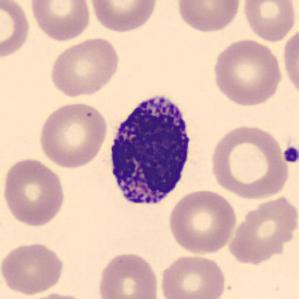Basophil: (103, 86, 198, 214)
Platelets: (281, 144, 299, 166)
RBC: (207, 123, 291, 200), (209, 37, 285, 107), (35, 100, 109, 170), (227, 195, 299, 265), (166, 188, 239, 255), (1, 155, 67, 228), (47, 36, 121, 98), (0, 240, 65, 296), (157, 252, 227, 299), (95, 250, 161, 299), (28, 0, 94, 43), (239, 0, 297, 43), (88, 0, 159, 34), (174, 0, 243, 34), (0, 0, 32, 61), (281, 24, 299, 100), (19, 290, 94, 299)
